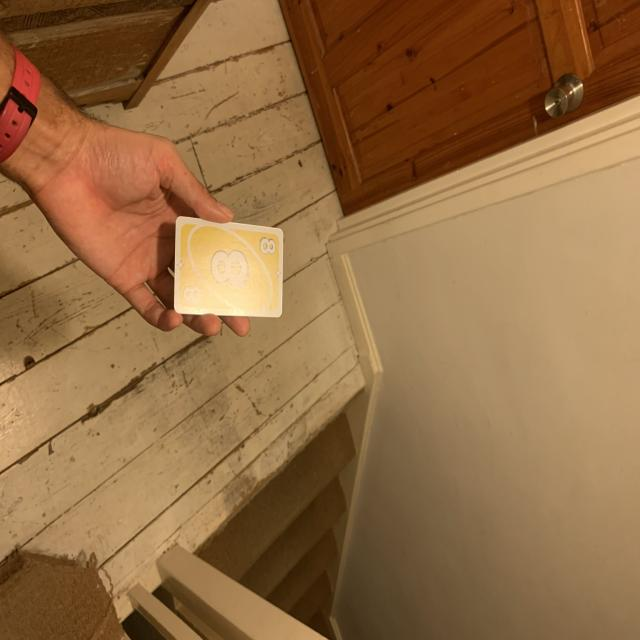lyellow-8: (254, 232, 281, 263)
